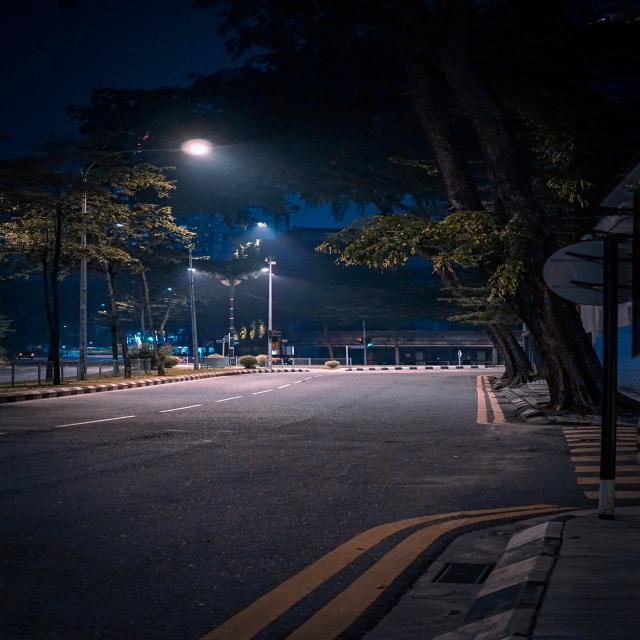Street Light: (78, 138, 214, 380), (188, 221, 265, 372), (185, 266, 269, 367)
